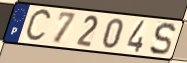0: (101, 18, 126, 50)
2: (75, 14, 100, 48)
4: (126, 19, 146, 53)
7: (53, 11, 77, 46)
C: (23, 7, 54, 44)
S: (148, 21, 177, 57)
